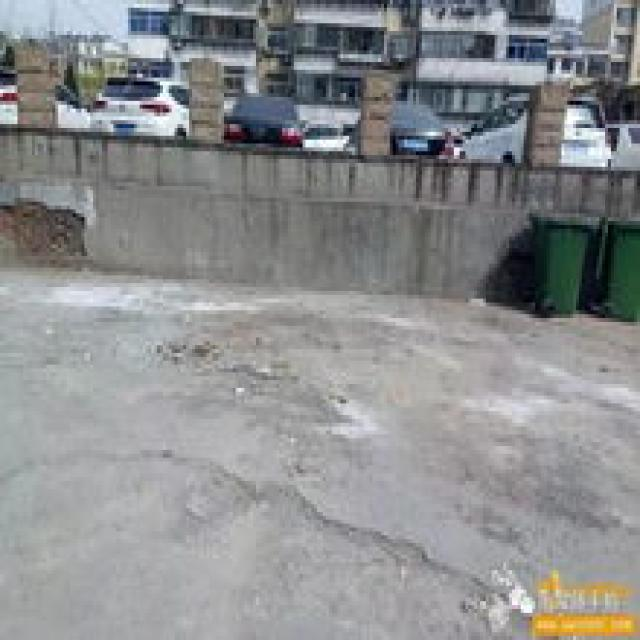garbage_bin: (526, 206, 596, 310), (596, 213, 637, 314)
